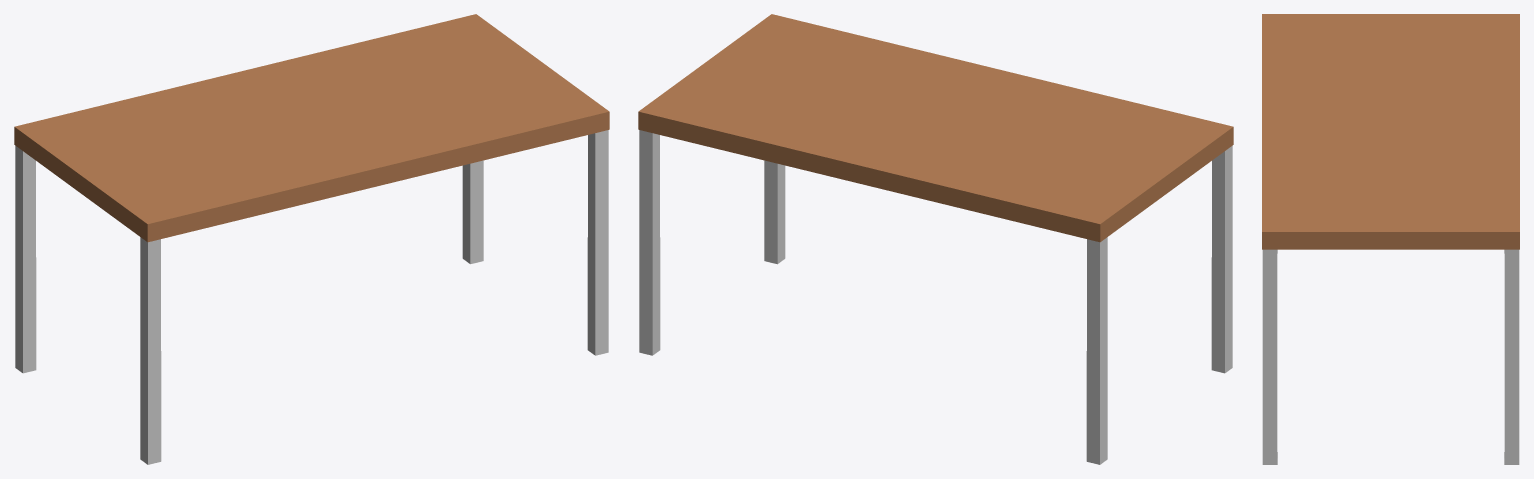
The model's file is Table_Dining.fbx.
The picture shows the model from 3 angles, left to right: view 1: azimuth 30°, elevation 25°; view 2: azimuth 150°, elevation 25°; view 3: azimuth 270°, elevation 25°; orthographic projection. The views are drawn at different scales.
Visible parts, largest first — view 1: table-dining; view 2: table-dining; view 3: table-dining.
Part boxes in pixels (<box>): table-dining: <box>14,14,609,464</box>; table-dining: <box>638,14,1233,464</box>; table-dining: <box>1262,14,1519,464</box>.
Size of the model in its own units: 1.6 by 0.798 by 0.8.
